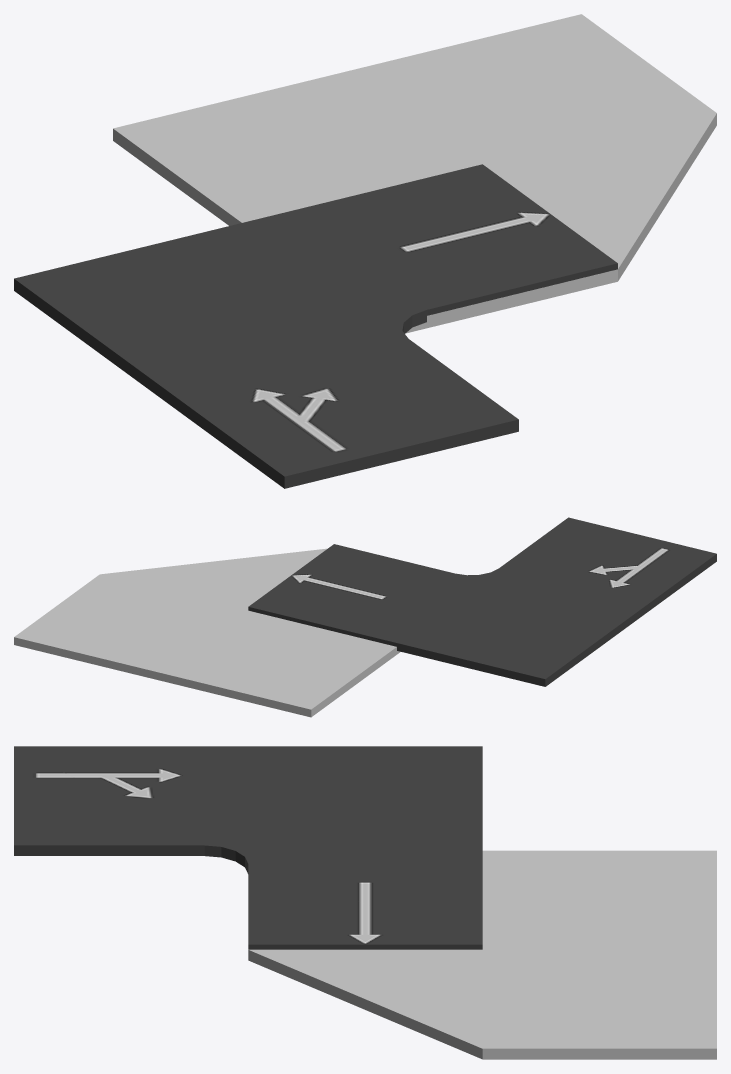
Rendered from SM_Factory_Parking_Corner_Road_02.fbx.
3 renders of one model, top to bottom at view 1: azimuth 30°, elevation 25°; view 2: azimuth 150°, elevation 25°; view 3: azimuth 270°, elevation 25°, orthographic. The views are drawn at different scales.
Parts seen in each view (by area): view 1: SM_Factory_Parking_Corner_Road_02, SM_Factory_Parking_Corner_Road_02_ConvexHulls; view 2: SM_Factory_Parking_Corner_Road_02, SM_Factory_Parking_Corner_Road_02_ConvexHulls; view 3: SM_Factory_Parking_Corner_Road_02, SM_Factory_Parking_Corner_Road_02_ConvexHulls.
Part boxes in pixels (x1,y1,x2,y2): SM_Factory_Parking_Corner_Road_02: [14, 164, 617, 488]; SM_Factory_Parking_Corner_Road_02_ConvexHulls: [113, 14, 716, 333]; SM_Factory_Parking_Corner_Road_02: [248, 517, 716, 686]; SM_Factory_Parking_Corner_Road_02_ConvexHulls: [14, 548, 400, 717]; SM_Factory_Parking_Corner_Road_02: [14, 746, 482, 949]; SM_Factory_Parking_Corner_Road_02_ConvexHulls: [248, 850, 716, 1059].
Size of the model in its own units: 1500 by 1500 by 37.61.
2 materials, 1 textured.
